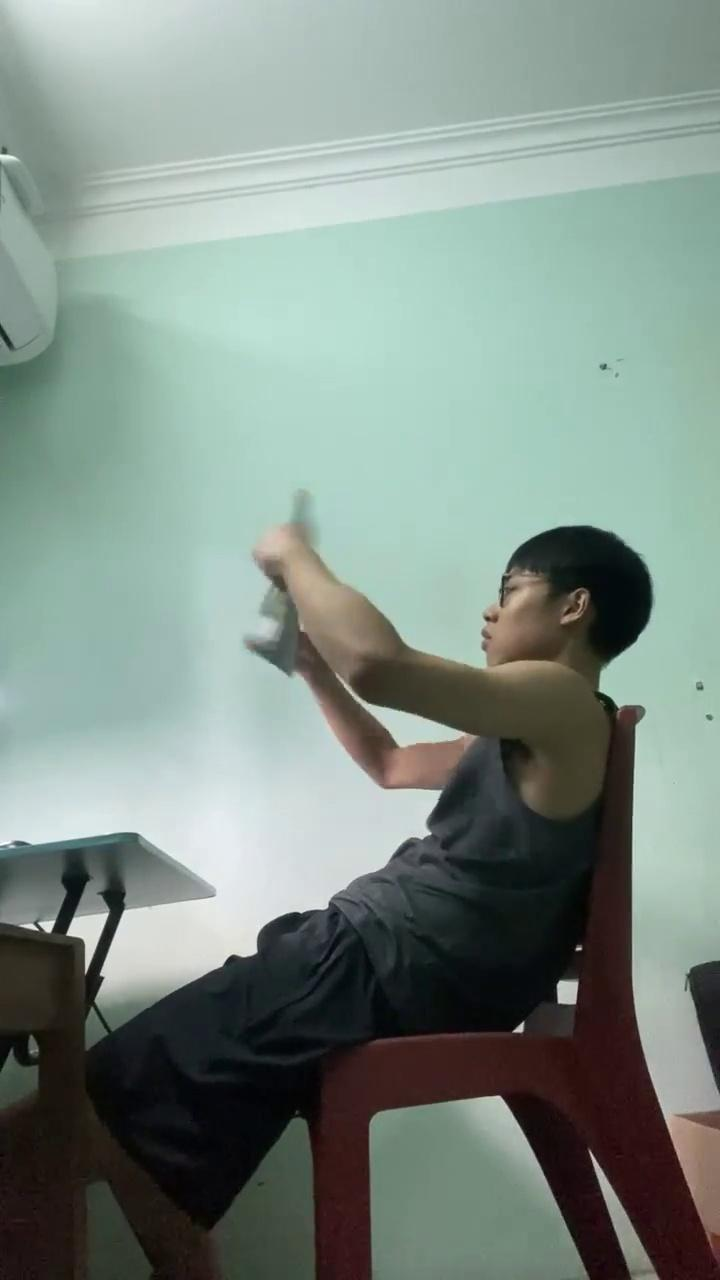BadPosture: (0, 525, 647, 1275)
